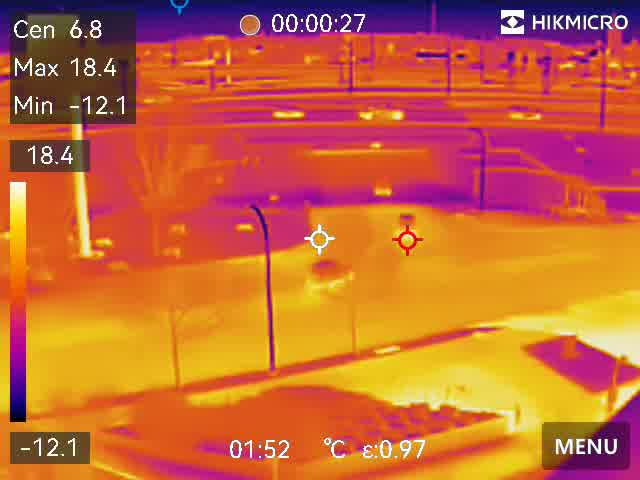vehicle: (300, 259, 359, 289), (354, 103, 408, 121), (395, 209, 419, 247), (507, 105, 548, 122), (271, 104, 309, 120), (370, 174, 394, 198)
